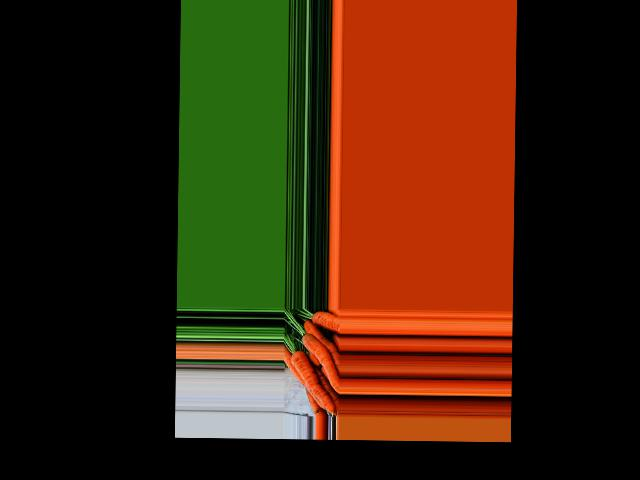carrot: (307, 308, 339, 331)
